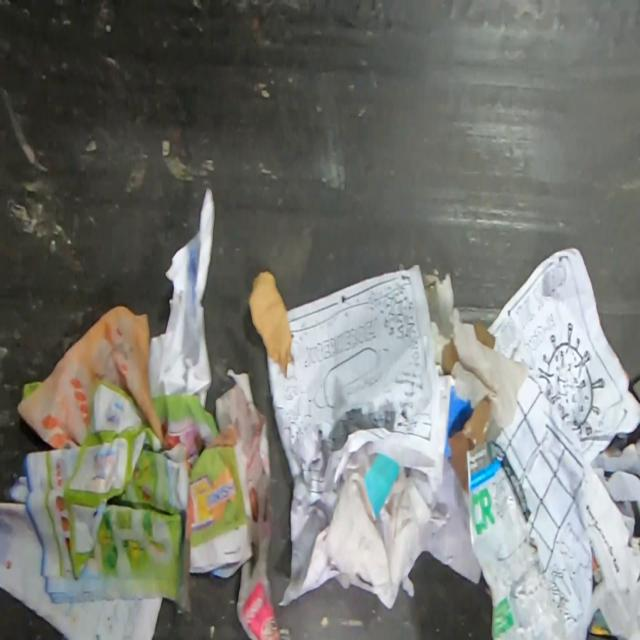cardboard: (440, 317, 530, 489), (247, 269, 296, 378)
soft_plastic: (464, 439, 579, 640)
